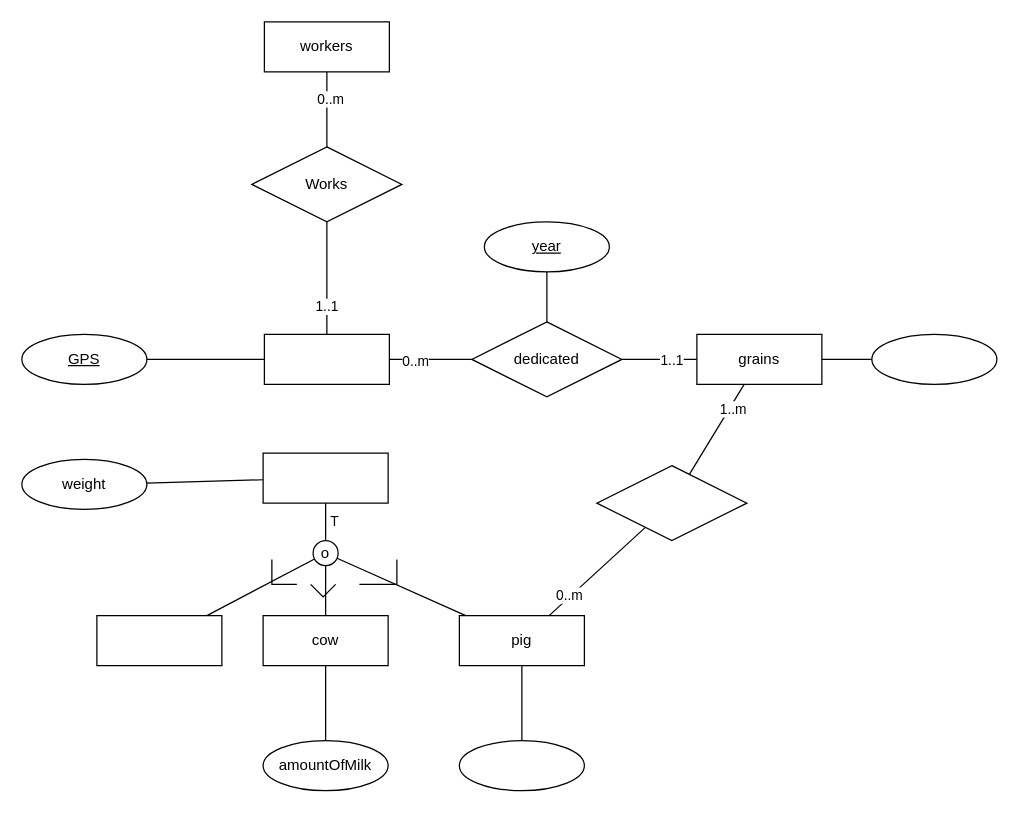
This 1019x813 diagram has some shape labels left out. Here are the shapes that lost their labels. From the top down, the centre of each, then its label:
At point (326, 358): "plotOfLand".
At point (934, 358): "Name".
At point (325, 477): "animal".
At point (671, 502): "Eats".
At point (159, 640): "chicken".
At point (521, 765): "rating".
